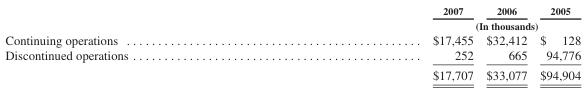table: (4, 4, 580, 82)
table column: (4, 4, 280, 82), (280, 4, 479, 82), (479, 4, 532, 82), (532, 4, 580, 82)
table column header: (4, 4, 580, 31)
table row: (4, 64, 580, 82), (4, 47, 580, 64), (4, 31, 580, 47), (4, 17, 580, 31), (4, 4, 580, 17)
table spanning cell: (280, 17, 580, 31)
